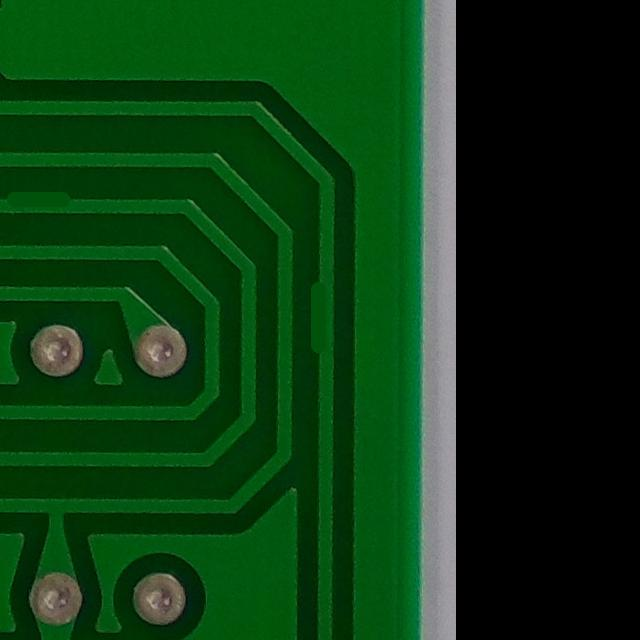spur: (298, 271, 342, 369)
